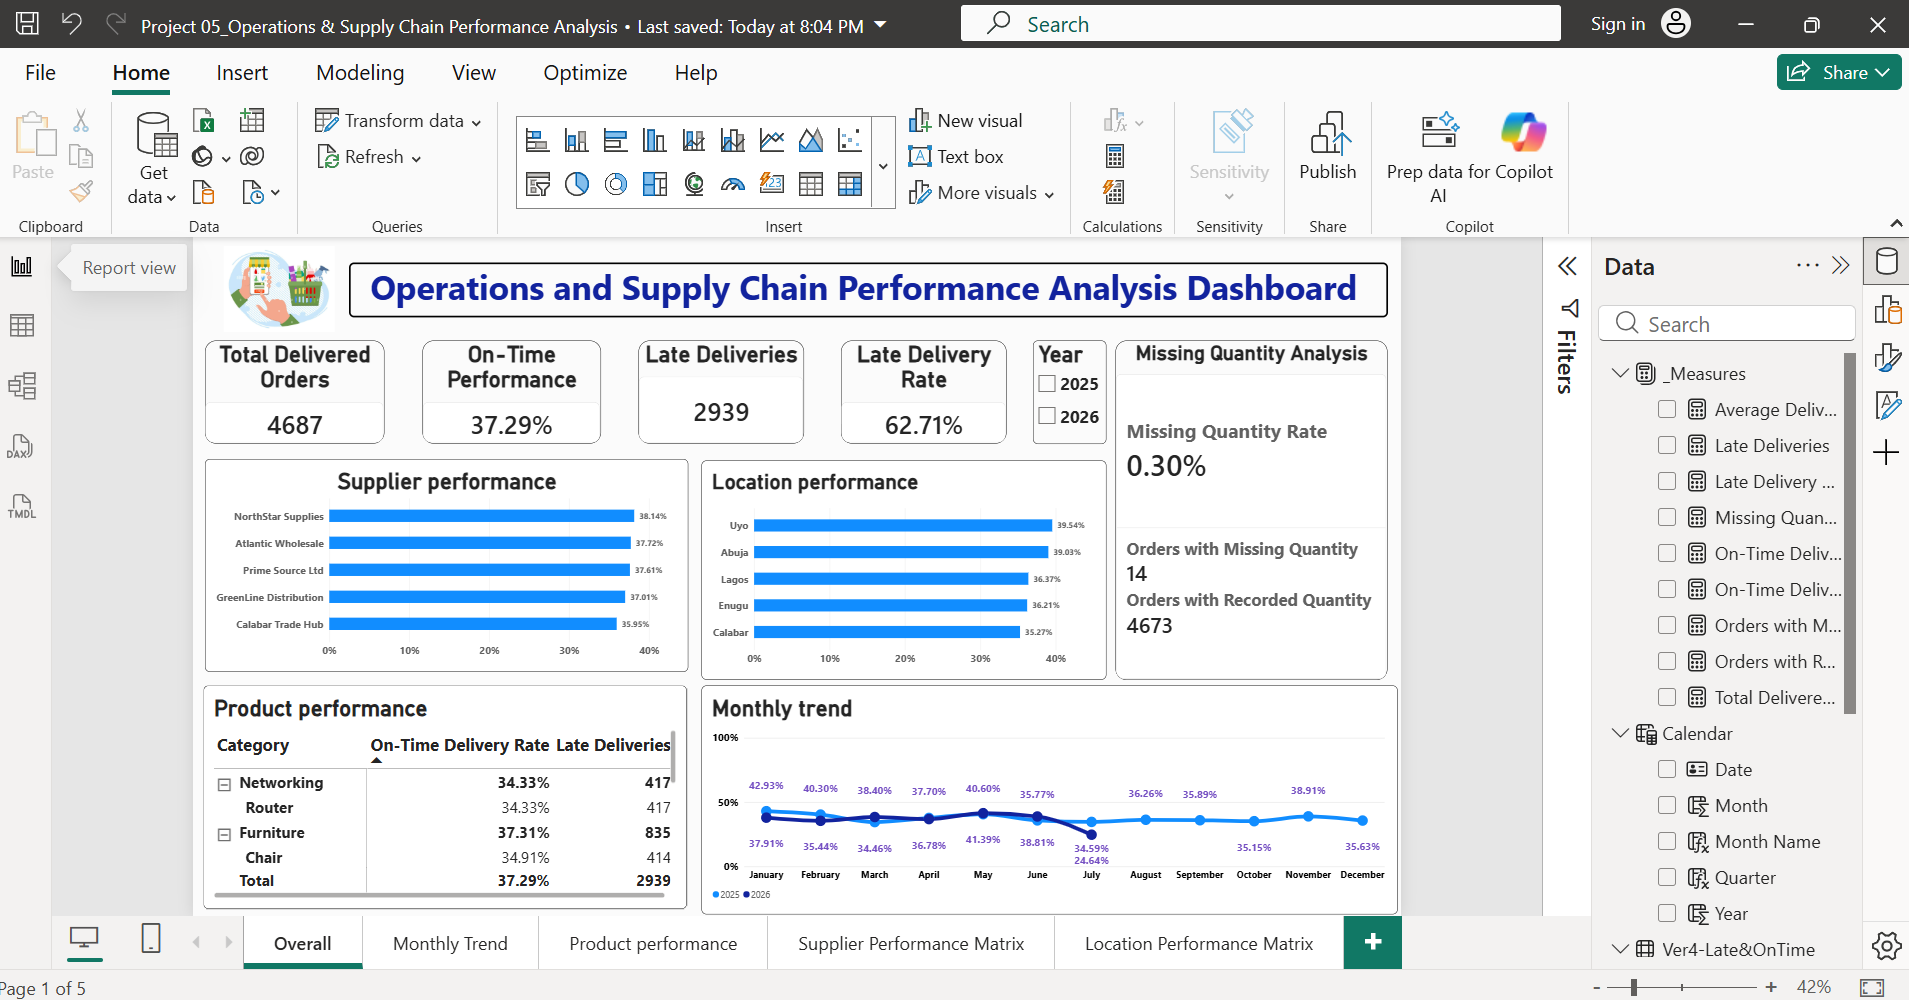

The dashboard page shown, as its layout file describes it:
{"tool":"powerbi","page":{"name":"Overall","canvas":[1920,1080],"ordinal":0},"visuals":[{"type":"cardVisual","title":"Total Delivered Orders","fields":{"Data":["_Measures.Total Delivered Orders"]},"box":[18.8,164.1,285.4,164.1],"z":0},{"type":"cardVisual","title":"On-Time Performance","fields":{"Data":["_Measures.On-Time Delivery Rate"]},"box":[364.1,164.6,283.7,164.1],"z":1000},{"type":"cardVisual","title":"Late Deliveries","fields":{"Data":["_Measures.Late Deliveries"]},"box":[707.7,164.6,263.2,164.1],"z":2000},{"type":"clusteredBarChart","title":"Supplier performance","fields":{"Category":["Ver4-Late&OnTime.Supplier"],"Y":["_Measures.On-Time Delivery Rate"]},"box":[18.8,353.7,769,338.4],"z":3000},{"type":"pivotTable","title":"Product performance","fields":{"Rows":["Ver4-Late&OnTime.Category","Ver4-Late&OnTime.Product"],"Values":["_Measures.On-Time Delivery Rate","_Measures.Late Deliveries"]},"box":[17.1,714.3,769,355.4],"z":4000},{"type":"clusteredBarChart","title":"Location performance","fields":{"Category":["Ver4-Late&OnTime.Location"],"Y":["_Measures.On-Time Delivery Rate"]},"box":[808.3,355.4,644.2,348.6],"z":5000},{"type":"lineChart","title":"Monthly trend","fields":{"Category":["Calendar.Month Name"],"Series":["Calendar.Year"],"Y":["_Measures.On-Time Delivery Rate"]},"box":[808.3,714.3,1107.3,364],"z":6000},{"type":"cardVisual","title":"Missing Quantity Analysis","fields":{"Data":["_Measures.Missing Quantity Rate"]},"box":[1467.9,164.1,432.3,540],"z":7000},{"type":"slicer","fields":{"Values":["Calendar.Year"]},"box":[1336.1,164.6,116.9,164.6],"z":8000},{"type":"textbox","box":[247.8,41,1652.5,87.2],"z":9000},{"type":"image","box":[25.6,13.7,222.2,136.7],"z":10000},{"type":"cardVisual","title":"Late Delivery Rate","fields":{"Data":["_Measures.Late Delivery Rate"]},"box":[1030.7,164.6,263.2,164.1],"z":11000}]}

Visuals, with their boxes on the page's 1920x1080 design canvas (x1, y1, x2, y2). These are canvas units, not pixel positions in the 1909x1000 screenshot, which may show the page scaled, cropped or inside an application window:
"Total Delivered Orders" cardVisual: select_region(19, 164, 304, 328)
"On-Time Performance" cardVisual: select_region(364, 165, 648, 329)
"Late Deliveries" cardVisual: select_region(708, 165, 971, 329)
"Supplier performance" clusteredBarChart: select_region(19, 354, 788, 692)
"Product performance" pivotTable: select_region(17, 714, 786, 1070)
"Location performance" clusteredBarChart: select_region(808, 355, 1452, 704)
"Monthly trend" lineChart: select_region(808, 714, 1916, 1078)
"Missing Quantity Analysis" cardVisual: select_region(1468, 164, 1900, 704)
slicer - Calendar.Year: select_region(1336, 165, 1453, 329)
textbox: select_region(248, 41, 1900, 128)
image: select_region(26, 14, 248, 150)
"Late Delivery Rate" cardVisual: select_region(1031, 165, 1294, 329)
